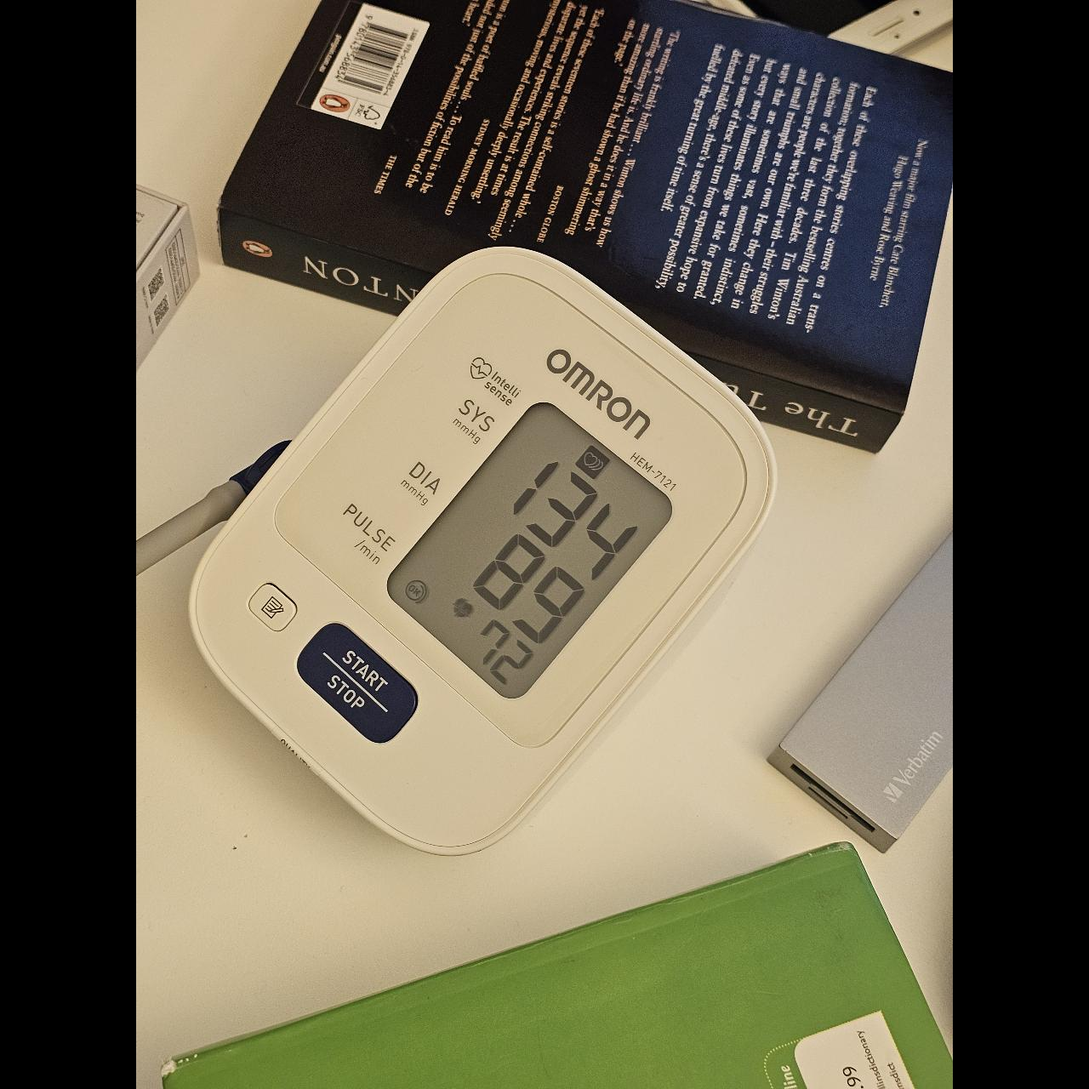blood pressure monitor: (188, 241, 787, 861)
